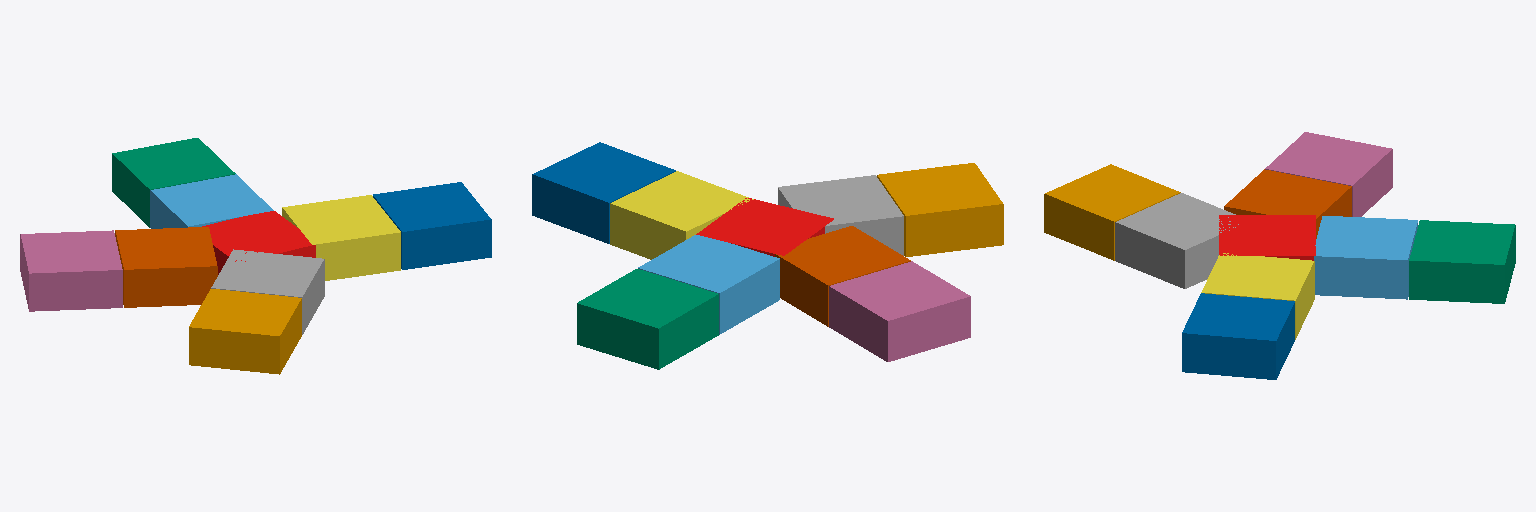
URDF robot description (Model_Models/Model_97.urdf1):
<?xml version='1.0' encoding='UTF-8'?>
<robot name="Model_Models/Model_97.urdf1">
  <link name="base_link">
    <inertial>
      <origin xyz="0.0 0.0 0.0" rpy="0.0 -0.0 0.0"/>
      <mass value="1.0"/>
      <inertia ixx="1.0" ixy="0.0" ixz="0.0" iyy="1.0" iyz="0.0" izz="1.0"/>
    </inertial>
    <visual>
      <geometry>
        <box size="0.67 0.67 0.3 "/>
      </geometry>
      <material name="red"/>
      <origin xyz="0.0 0.0 0.0" rpy="0.0 -0.0 0.0"/>
    </visual>
    <collision>
      <geometry>
        <box size="0.67 0.67 0.3 "/>
      </geometry>
      <origin xyz="0.0 0.0 0.0" rpy="0.0 0.0 0.0"/>
    </collision>
  </link>
  <link name="arm_0_arm1">
    <inertial>
      <origin xyz="0.0 0.34 0.0" rpy="0.0 0.0 0.0"/>
      <mass value="1.0"/>
      <inertia ixx="0.0" ixy="0.0" ixz="0.0" iyy="0.0" iyz="0.0" izz="0.0"/>
    </inertial>
    <visual>
      <geometry>
        <box size="0.67 0.67 0.3 "/>
      </geometry>
      <origin xyz="0.0 0.34 0.0" rpy="0.0 0.0 0.0"/>
    </visual>
    <collision>
      <geometry>
        <box size="0.67 0.67 0.3 "/>
      </geometry>
      <origin xyz="0.0 0.34 0.0" rpy="0.0 0.0 0.0"/>
    </collision>
  </link>
  <link name="arm_0_arm2">
    <inertial>
      <origin xyz="0.0 0.34 0.0" rpy="0.0 0.0 0.0"/>
      <mass value="1.0"/>
      <inertia ixx="0.0" ixy="0.0" ixz="0.0" iyy="0.0" iyz="0.0" izz="0.0"/>
    </inertial>
    <visual>
      <geometry>
        <box size="0.67 0.67 0.3 "/>
      </geometry>
      <origin xyz="0.0 0.34 0.0" rpy="0.0 0.0 0.0"/>
    </visual>
    <collision>
      <geometry>
        <box size="0.67 0.67 0.3 "/>
      </geometry>
      <origin xyz="0.0 0.34 0.0" rpy="0.0 0.0 0.0"/>
    </collision>
  </link>
  <link name="arm_2_arm1">
    <inertial>
      <origin xyz="0.0 0.34 0.0" rpy="0.0 0.0 0.0"/>
      <mass value="1.0"/>
      <inertia ixx="0.0" ixy="0.0" ixz="0.0" iyy="0.0" iyz="0.0" izz="0.0"/>
    </inertial>
    <visual>
      <geometry>
        <box size="0.67 0.67 0.3 "/>
      </geometry>
      <origin xyz="0.0 0.34 0.0" rpy="0.0 0.0 0.0"/>
    </visual>
    <collision>
      <geometry>
        <box size="0.67 0.67 0.3 "/>
      </geometry>
      <origin xyz="0.0 0.34 0.0" rpy="0.0 0.0 0.0"/>
    </collision>
  </link>
  <link name="arm_2_arm2">
    <inertial>
      <origin xyz="0.0 0.34 0.0" rpy="0.0 0.0 0.0"/>
      <mass value="1.0"/>
      <inertia ixx="0.0" ixy="0.0" ixz="0.0" iyy="0.0" iyz="0.0" izz="0.0"/>
    </inertial>
    <visual>
      <geometry>
        <box size="0.67 0.67 0.3 "/>
      </geometry>
      <origin xyz="0.0 0.34 0.0" rpy="0.0 0.0 0.0"/>
    </visual>
    <collision>
      <geometry>
        <box size="0.67 0.67 0.3 "/>
      </geometry>
      <origin xyz="0.0 0.34 0.0" rpy="0.0 0.0 0.0"/>
    </collision>
  </link>
  <link name="arm_3_arm1">
    <inertial>
      <origin xyz="0.0 0.34 0.0" rpy="0.0 0.0 0.0"/>
      <mass value="1.0"/>
      <inertia ixx="0.0" ixy="0.0" ixz="0.0" iyy="0.0" iyz="0.0" izz="0.0"/>
    </inertial>
    <visual>
      <geometry>
        <box size="0.67 0.67 0.3 "/>
      </geometry>
      <origin xyz="0.0 0.34 0.0" rpy="0.0 0.0 0.0"/>
    </visual>
    <collision>
      <geometry>
        <box size="0.67 0.67 0.3 "/>
      </geometry>
      <origin xyz="0.0 0.34 0.0" rpy="0.0 0.0 0.0"/>
    </collision>
  </link>
  <link name="arm_3_arm2">
    <inertial>
      <origin xyz="0.0 0.34 0.0" rpy="0.0 0.0 0.0"/>
      <mass value="1.0"/>
      <inertia ixx="0.0" ixy="0.0" ixz="0.0" iyy="0.0" iyz="0.0" izz="0.0"/>
    </inertial>
    <visual>
      <geometry>
        <box size="0.67 0.67 0.3 "/>
      </geometry>
      <origin xyz="0.0 0.34 0.0" rpy="0.0 0.0 0.0"/>
    </visual>
    <collision>
      <geometry>
        <box size="0.67 0.67 0.3 "/>
      </geometry>
      <origin xyz="0.0 0.34 0.0" rpy="0.0 0.0 0.0"/>
    </collision>
  </link>
  <link name="arm_Permutation_1_arm1">
    <inertial>
      <origin xyz="0.0 0.34 0.0" rpy="0.0 0.0 0.0"/>
      <mass value="1.0"/>
      <inertia ixx="0.0" ixy="0.0" ixz="0.0" iyy="0.0" iyz="0.0" izz="0.0"/>
    </inertial>
    <visual>
      <geometry>
        <box size="0.67 0.67 0.3 "/>
      </geometry>
      <origin xyz="0.0 0.34 0.0" rpy="0.0 0.0 0.0"/>
    </visual>
    <collision>
      <geometry>
        <box size="0.67 0.67 0.3 "/>
      </geometry>
      <origin xyz="0.0 0.34 0.0" rpy="0.0 0.0 0.0"/>
    </collision>
  </link>
  <link name="arm_Permutation_1_arm2">
    <inertial>
      <origin xyz="0.0 0.34 0.0" rpy="0.0 0.0 0.0"/>
      <mass value="1.0"/>
      <inertia ixx="0.0" ixy="0.0" ixz="0.0" iyy="0.0" iyz="0.0" izz="0.0"/>
    </inertial>
    <visual>
      <geometry>
        <box size="0.67 0.67 0.3 "/>
      </geometry>
      <origin xyz="0.0 0.34 0.0" rpy="0.0 0.0 0.0"/>
    </visual>
    <collision>
      <geometry>
        <box size="0.67 0.67 0.3 "/>
      </geometry>
      <origin xyz="0.0 0.34 0.0" rpy="0.0 0.0 0.0"/>
    </collision>
  </link>
  <joint name="arm_0_jointBase" type="fixed">
    <limit effort="1.57" velocity="1.57" lower="-1.57" upper="1.57"/>
    <parent link="base_link"/>
    <child link="arm_0_arm1"/>
    <axis xyz="1. 0. 0."/>
    <origin xyz="0.0 0.34 0.0" rpy="0.0 0.0 -0.11"/>
  </joint>
  <joint name="arm_0_joint1" type="revolute">
    <limit effort="1.57" velocity="1.57" lower="-1.57" upper="1.57"/>
    <parent link="arm_0_arm1"/>
    <child link="arm_0_arm2"/>
    <axis xyz="1. 0. 0."/>
    <origin xyz="0.0 0.68 0.0" rpy="0.0 0.0 0.0"/>
  </joint>
  <joint name="arm_2_jointBase" type="fixed">
    <limit effort="1.57" velocity="1.57" lower="-1.57" upper="1.57"/>
    <parent link="base_link"/>
    <child link="arm_2_arm1"/>
    <axis xyz="1. 0. 0."/>
    <origin xyz="0.34 0.0 0.0" rpy="0.0 0.0 -1.77"/>
  </joint>
  <joint name="arm_2_joint1" type="revolute">
    <limit effort="1.57" velocity="1.57" lower="-1.57" upper="1.57"/>
    <parent link="arm_2_arm1"/>
    <child link="arm_2_arm2"/>
    <axis xyz="1. 0. 0."/>
    <origin xyz="0.0 0.68 0.0" rpy="0.0 0.0 0.0"/>
  </joint>
  <joint name="arm_3_jointBase" type="fixed">
    <limit effort="1.57" velocity="1.57" lower="-1.57" upper="1.57"/>
    <parent link="base_link"/>
    <child link="arm_3_arm1"/>
    <axis xyz="1. 0. 0."/>
    <origin xyz="-0.34 0.0 0.0" rpy="0.0 0.0 1.14"/>
  </joint>
  <joint name="arm_3_joint1" type="revolute">
    <limit effort="1.57" velocity="1.57" lower="-1.57" upper="1.57"/>
    <parent link="arm_3_arm1"/>
    <child link="arm_3_arm2"/>
    <axis xyz="1. 0. 0."/>
    <origin xyz="0.0 0.68 0.0" rpy="0.0 0.0 0.0"/>
  </joint>
  <joint name="arm_Permutation_1_jointBase" type="fixed">
    <limit effort="1.57" velocity="1.57" lower="-1.57" upper="1.57"/>
    <parent link="base_link"/>
    <child link="arm_Permutation_1_arm1"/>
    <axis xyz="1. 0. 0."/>
    <origin xyz="0.0 -0.34 0.0" rpy="0.0 0.0 2.38"/>
  </joint>
  <joint name="arm_Permutation_1_joint1" type="revolute">
    <limit effort="1.57" velocity="1.57" lower="-1.57" upper="1.57"/>
    <parent link="arm_Permutation_1_arm1"/>
    <child link="arm_Permutation_1_arm2"/>
    <axis xyz="1. 0. 0."/>
    <origin xyz="0.0 0.68 0.0" rpy="0.0 0.0 0.0"/>
  </joint>
  <material name="red">
    <color rgba="0.969 0.129 0.122 1.   "/>
  </material>
</robot>

--- Facts derived from the render (not from the file) ---
3 views of the same robot in one strip: view 1: azimuth 30°, elevation 25°; view 2: azimuth 150°, elevation 25°; view 3: azimuth 270°, elevation 25° (orthographic).
Model Model_Models/Model_97.urdf1 with 9 links and 8 joints (4 revolute, 4 fixed), rooted at base_link, posed all joints at 0.
Links seen in each view (by area): view 1: arm_Permutation_1_arm2, arm_3_arm2, arm_2_arm2, arm_3_arm1, arm_2_arm1, arm_0_arm2, arm_Permutation_1_arm1, arm_0_arm1, base_link; view 2: arm_0_arm2, arm_3_arm2, arm_Permutation_1_arm2, arm_2_arm2, arm_2_arm1, arm_0_arm1, arm_3_arm1, arm_Permutation_1_arm1, base_link; view 3: arm_2_arm2, arm_0_arm2, arm_0_arm1, arm_Permutation_1_arm1, arm_Permutation_1_arm2, arm_3_arm2, arm_2_arm1, arm_3_arm1, base_link.
Boxes of the visible links, bbox=[...] form: arm_Permutation_1_arm2: bbox=[189, 289, 301, 374]; arm_3_arm2: bbox=[20, 230, 122, 311]; arm_2_arm2: bbox=[373, 182, 491, 269]; arm_3_arm1: bbox=[115, 227, 217, 307]; arm_2_arm1: bbox=[282, 195, 400, 280]; arm_0_arm2: bbox=[112, 138, 235, 227]; arm_Permutation_1_arm1: bbox=[211, 249, 324, 334]; arm_0_arm1: bbox=[150, 174, 273, 228]; base_link: bbox=[202, 211, 315, 274]; arm_0_arm2: bbox=[577, 269, 718, 369]; arm_3_arm2: bbox=[829, 261, 970, 361]; arm_Permutation_1_arm2: bbox=[877, 163, 1003, 256]; arm_2_arm2: bbox=[532, 142, 675, 243]; arm_2_arm1: bbox=[610, 171, 753, 259]; arm_0_arm1: bbox=[638, 235, 779, 334]; arm_3_arm1: bbox=[775, 226, 910, 326]; arm_Permutation_1_arm1: bbox=[778, 175, 903, 255]; base_link: bbox=[696, 198, 833, 256]; arm_2_arm2: bbox=[1182, 293, 1294, 379]; arm_0_arm2: bbox=[1409, 220, 1515, 303]; arm_0_arm1: bbox=[1314, 216, 1417, 299]; arm_Permutation_1_arm1: bbox=[1115, 193, 1238, 288]; arm_Permutation_1_arm2: bbox=[1044, 164, 1180, 260]; arm_3_arm2: bbox=[1265, 132, 1392, 216]; arm_2_arm1: bbox=[1201, 253, 1314, 339]; arm_3_arm1: bbox=[1224, 169, 1351, 238]; base_link: bbox=[1219, 215, 1315, 260].
Bounding box of the posed robot: 3.45 × 3.28 × 0.3 m (x, y, z).
Geometry: primitives only (box / cylinder / sphere), no mesh files.